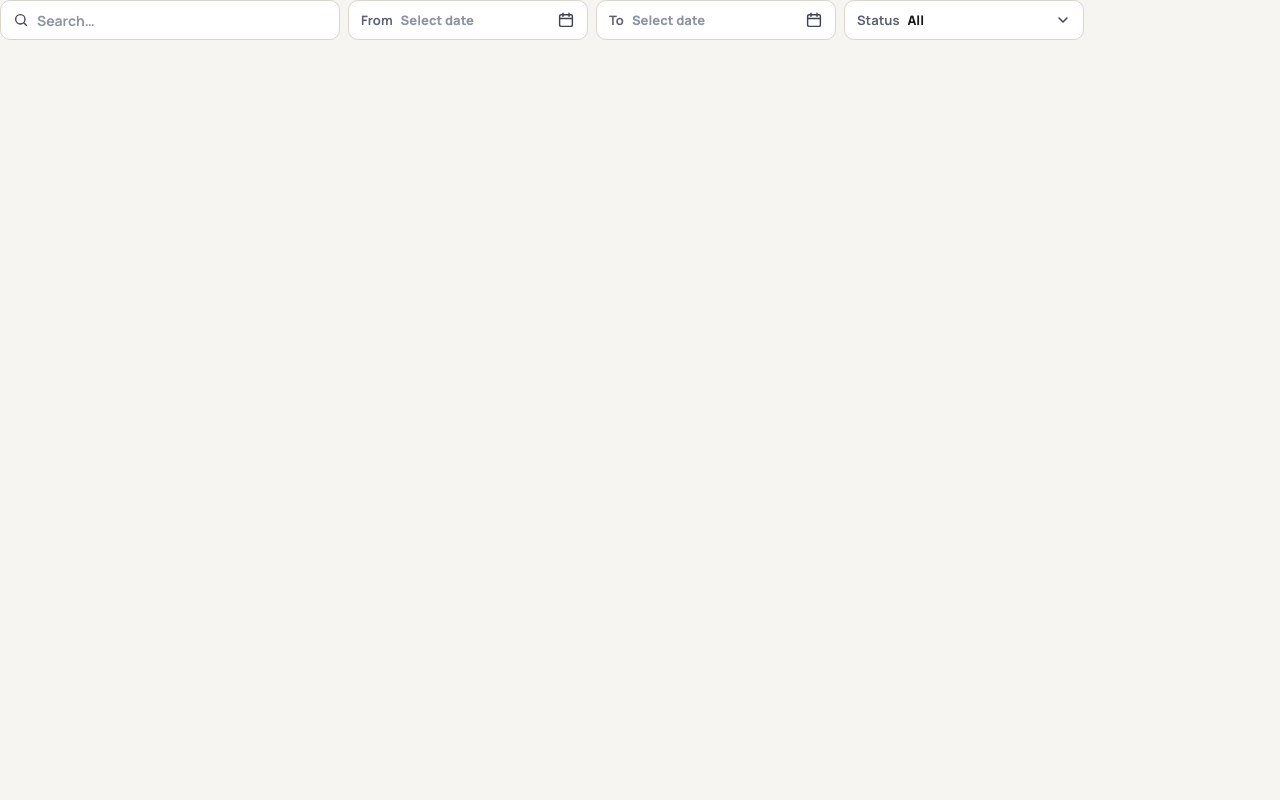
Scenario: FilterBar date range › waits for both dates, then applies the pair
Click the button "From Select date". click: (468, 20)
box: [348,0,588,40]
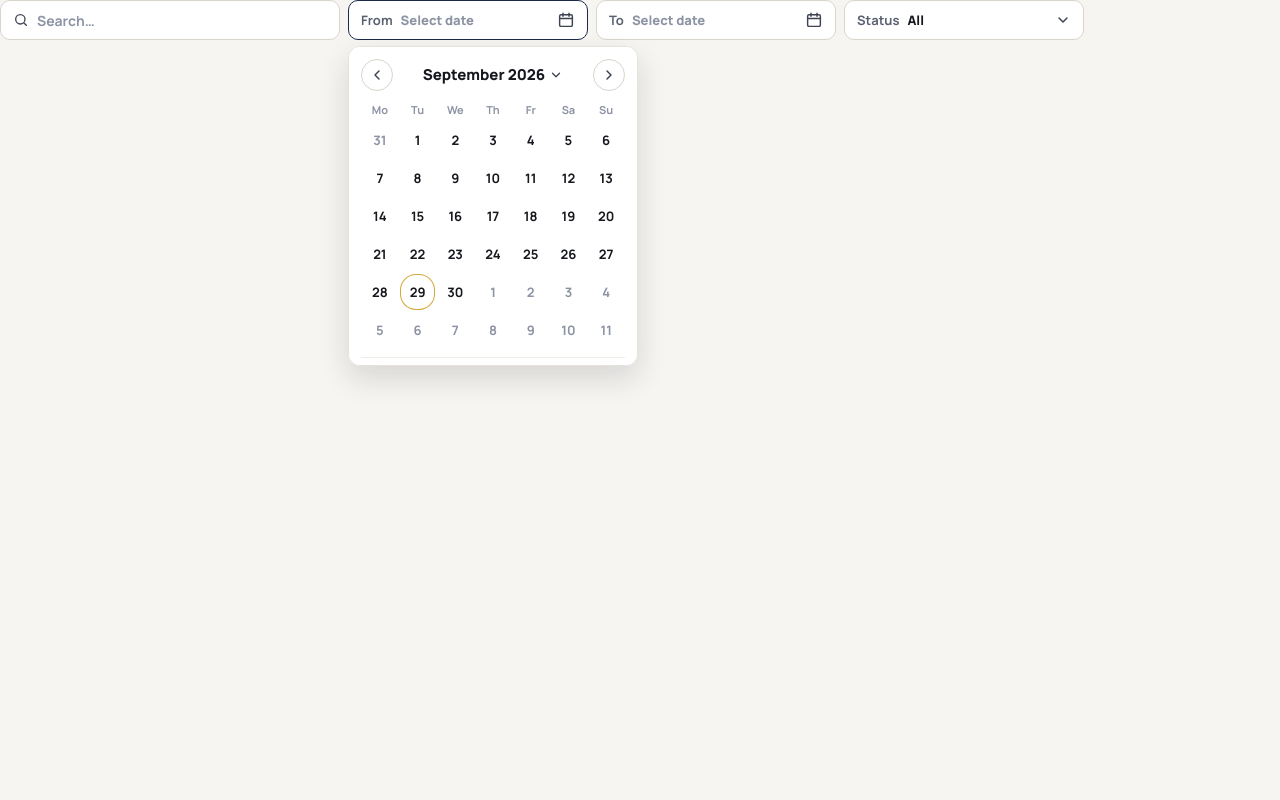
Click the button named "September 15, 2026". click: (418, 216)
box: [400,198,435,234]
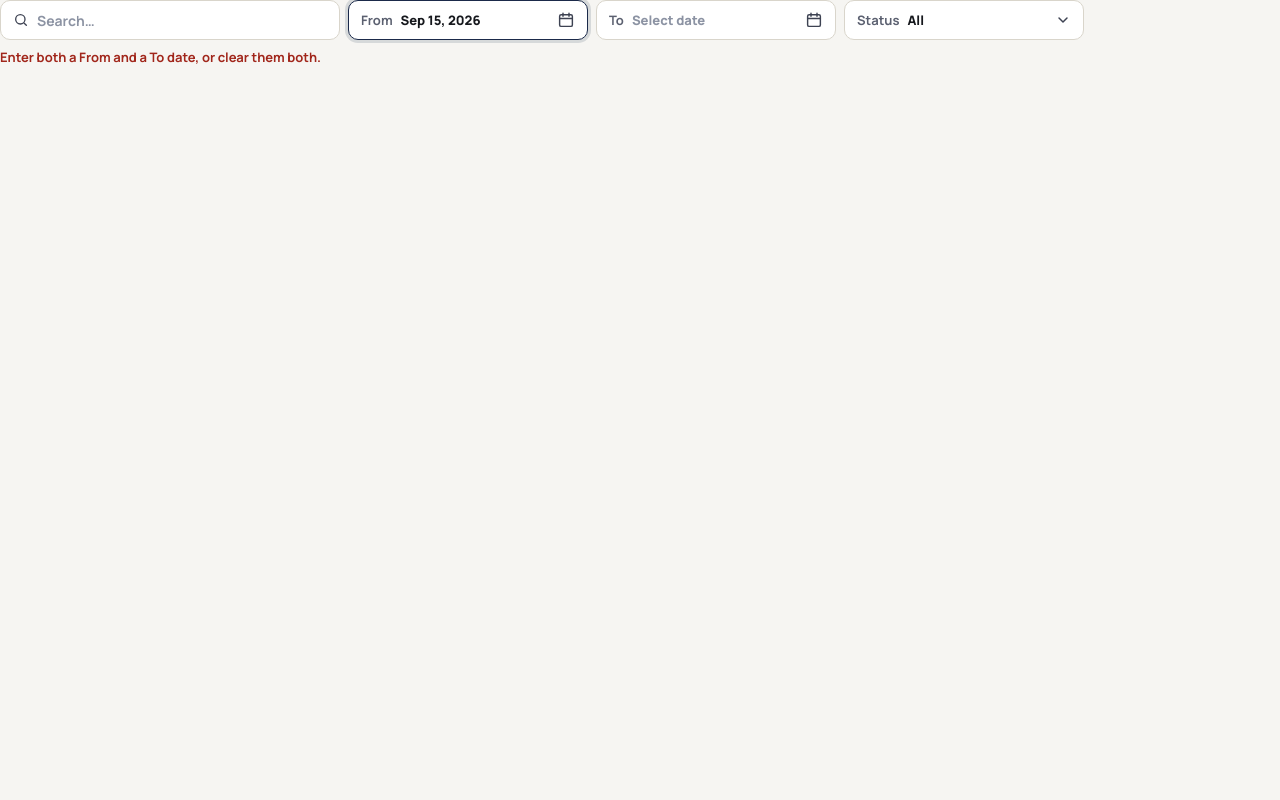
Now the message reads "Enter both a From and a To date, or clear them both.", box [0,48,321,66]
Click the button "To Select date". click: (716, 20)
box: [596,0,836,40]
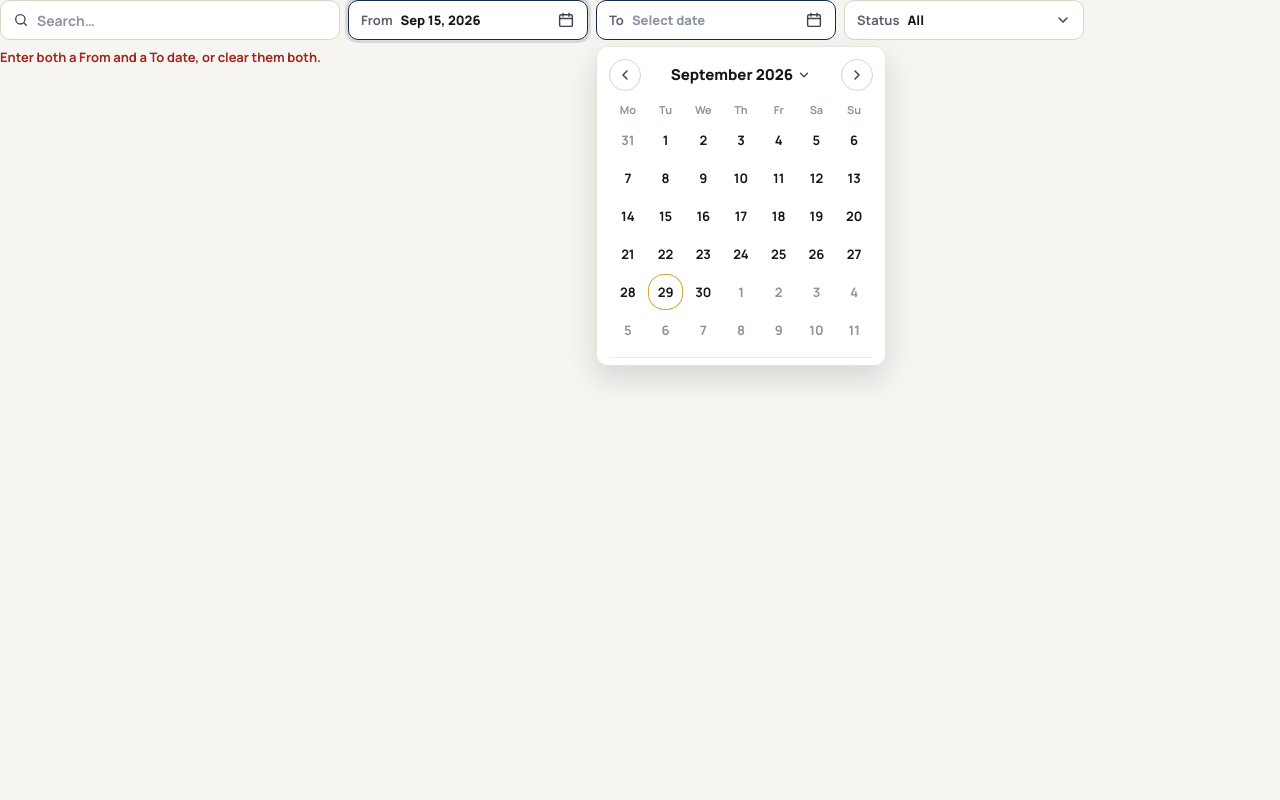
Click the button named "September 20, 2026". click: (854, 216)
box: [836,198,872,234]
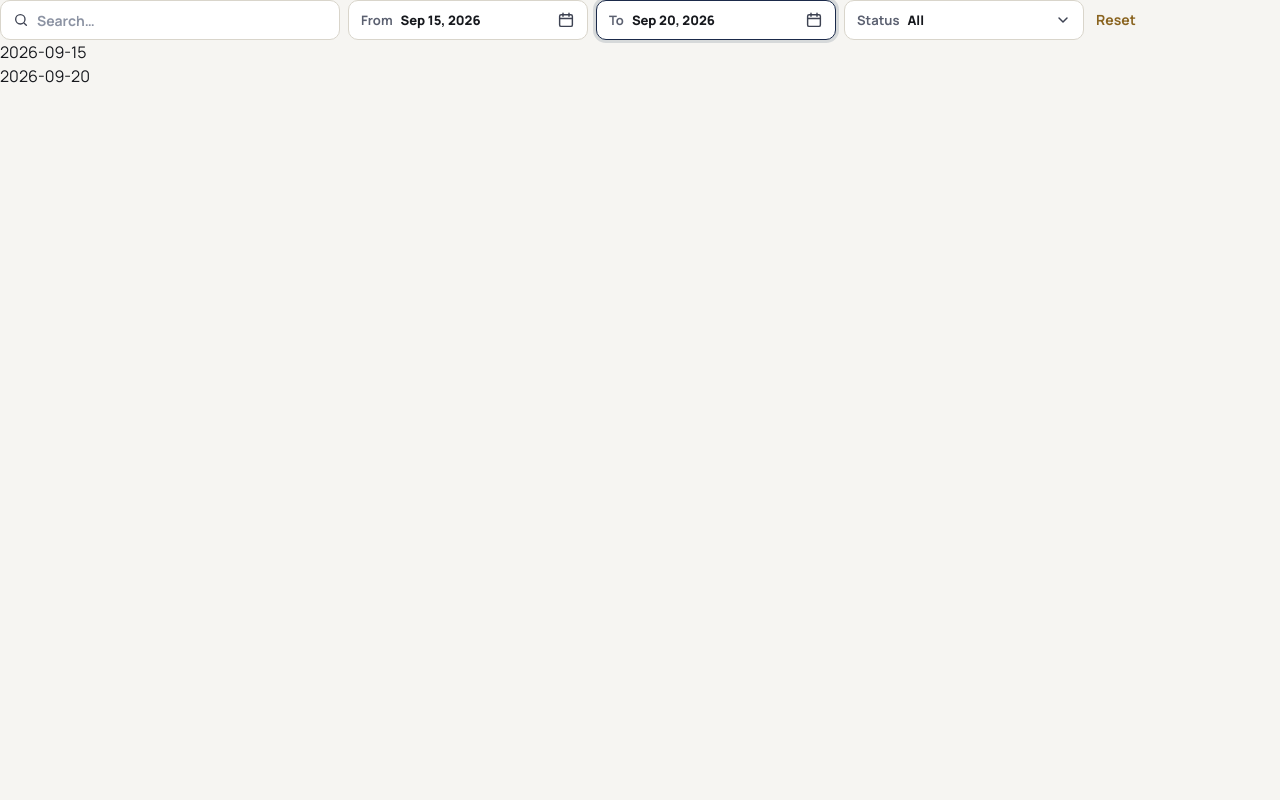
Now the message "Enter both a From and a To date, or clear them both." is gone
